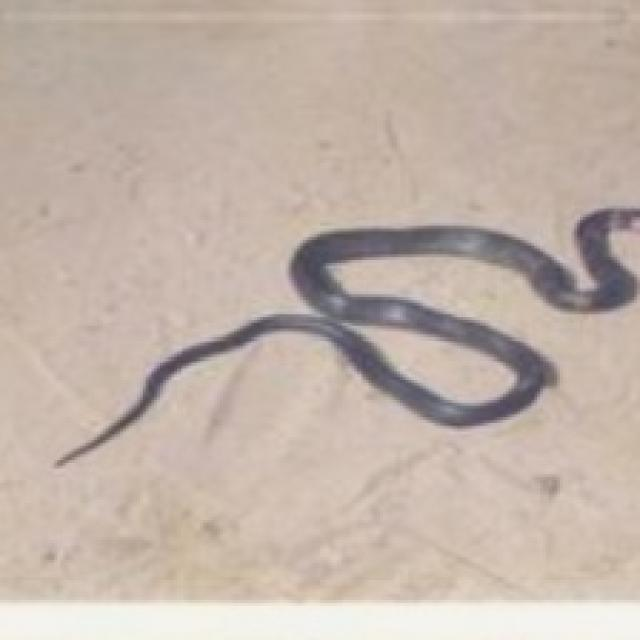king cobra: (54, 209, 637, 463), (340, 320, 514, 403)
